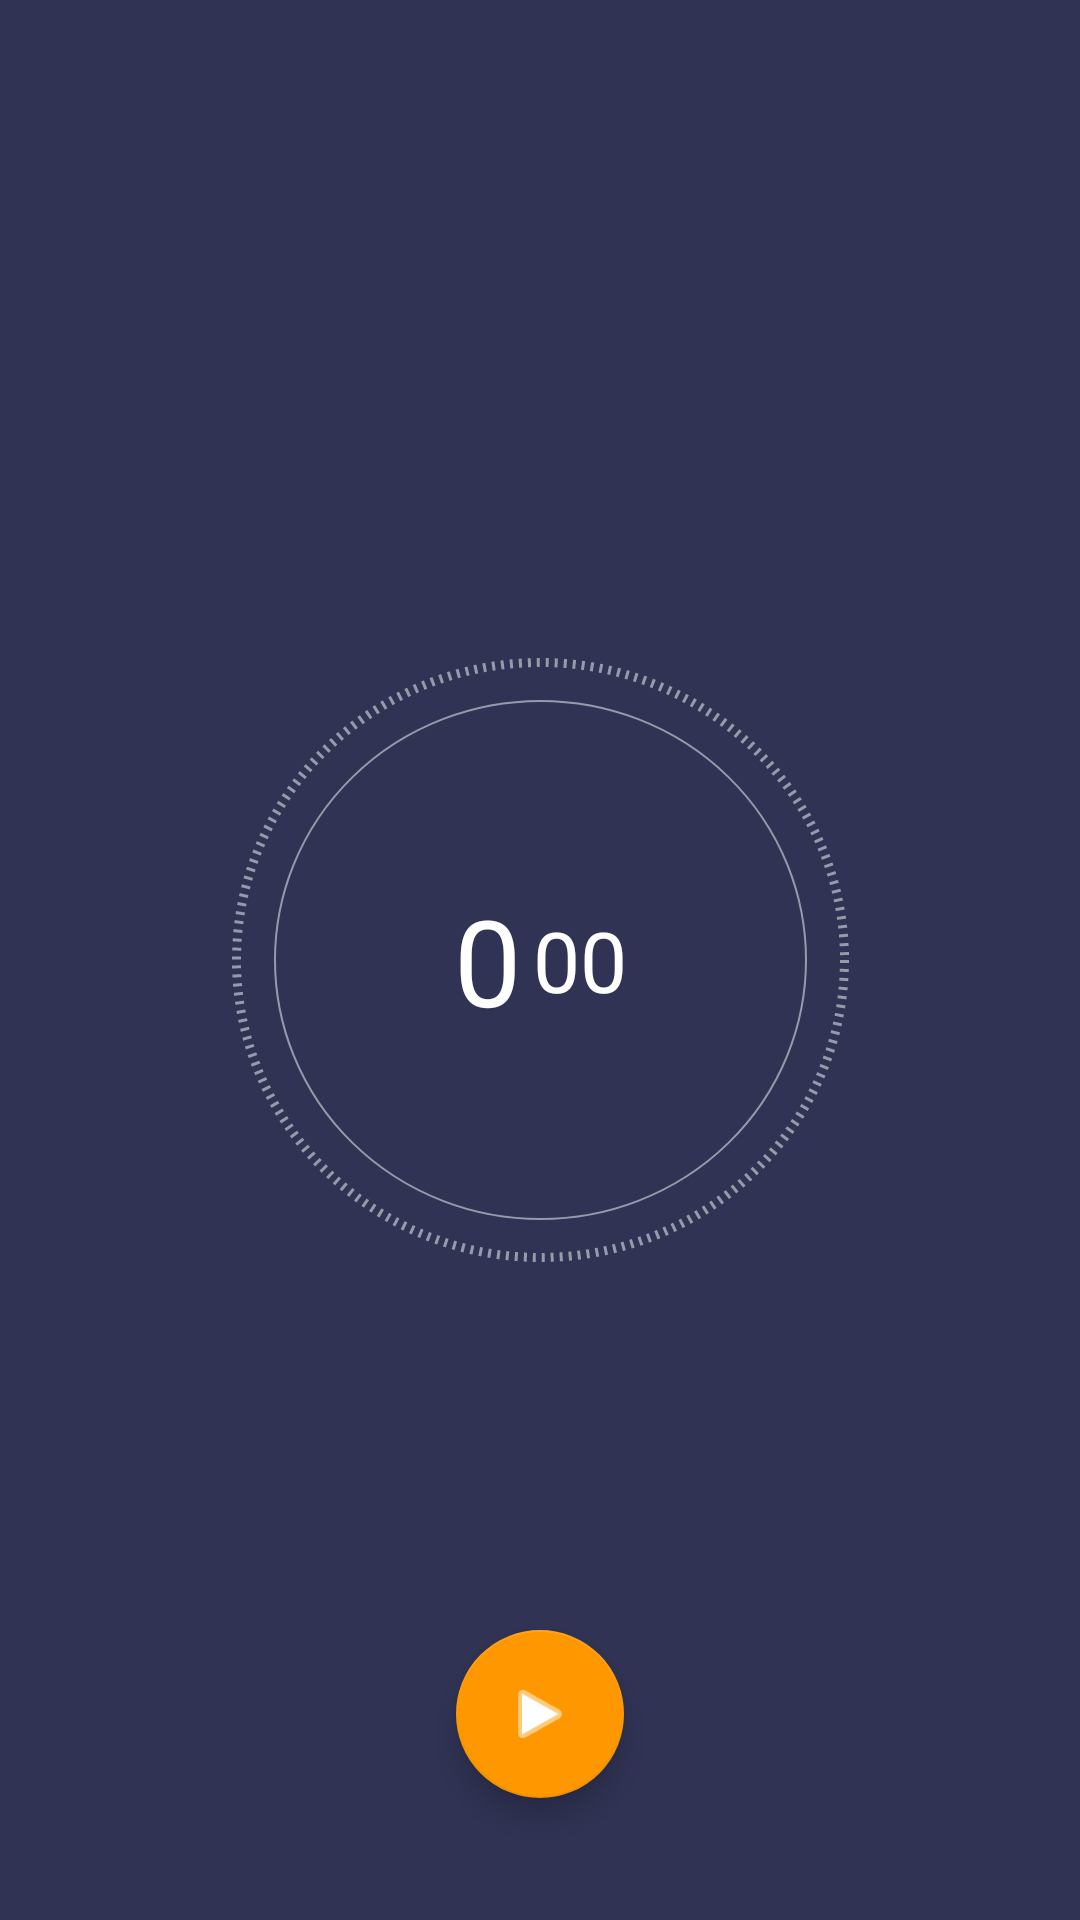

Named icons in this screenshot (1080×1920) and their centers, (x,y):
play: (540,1714)
